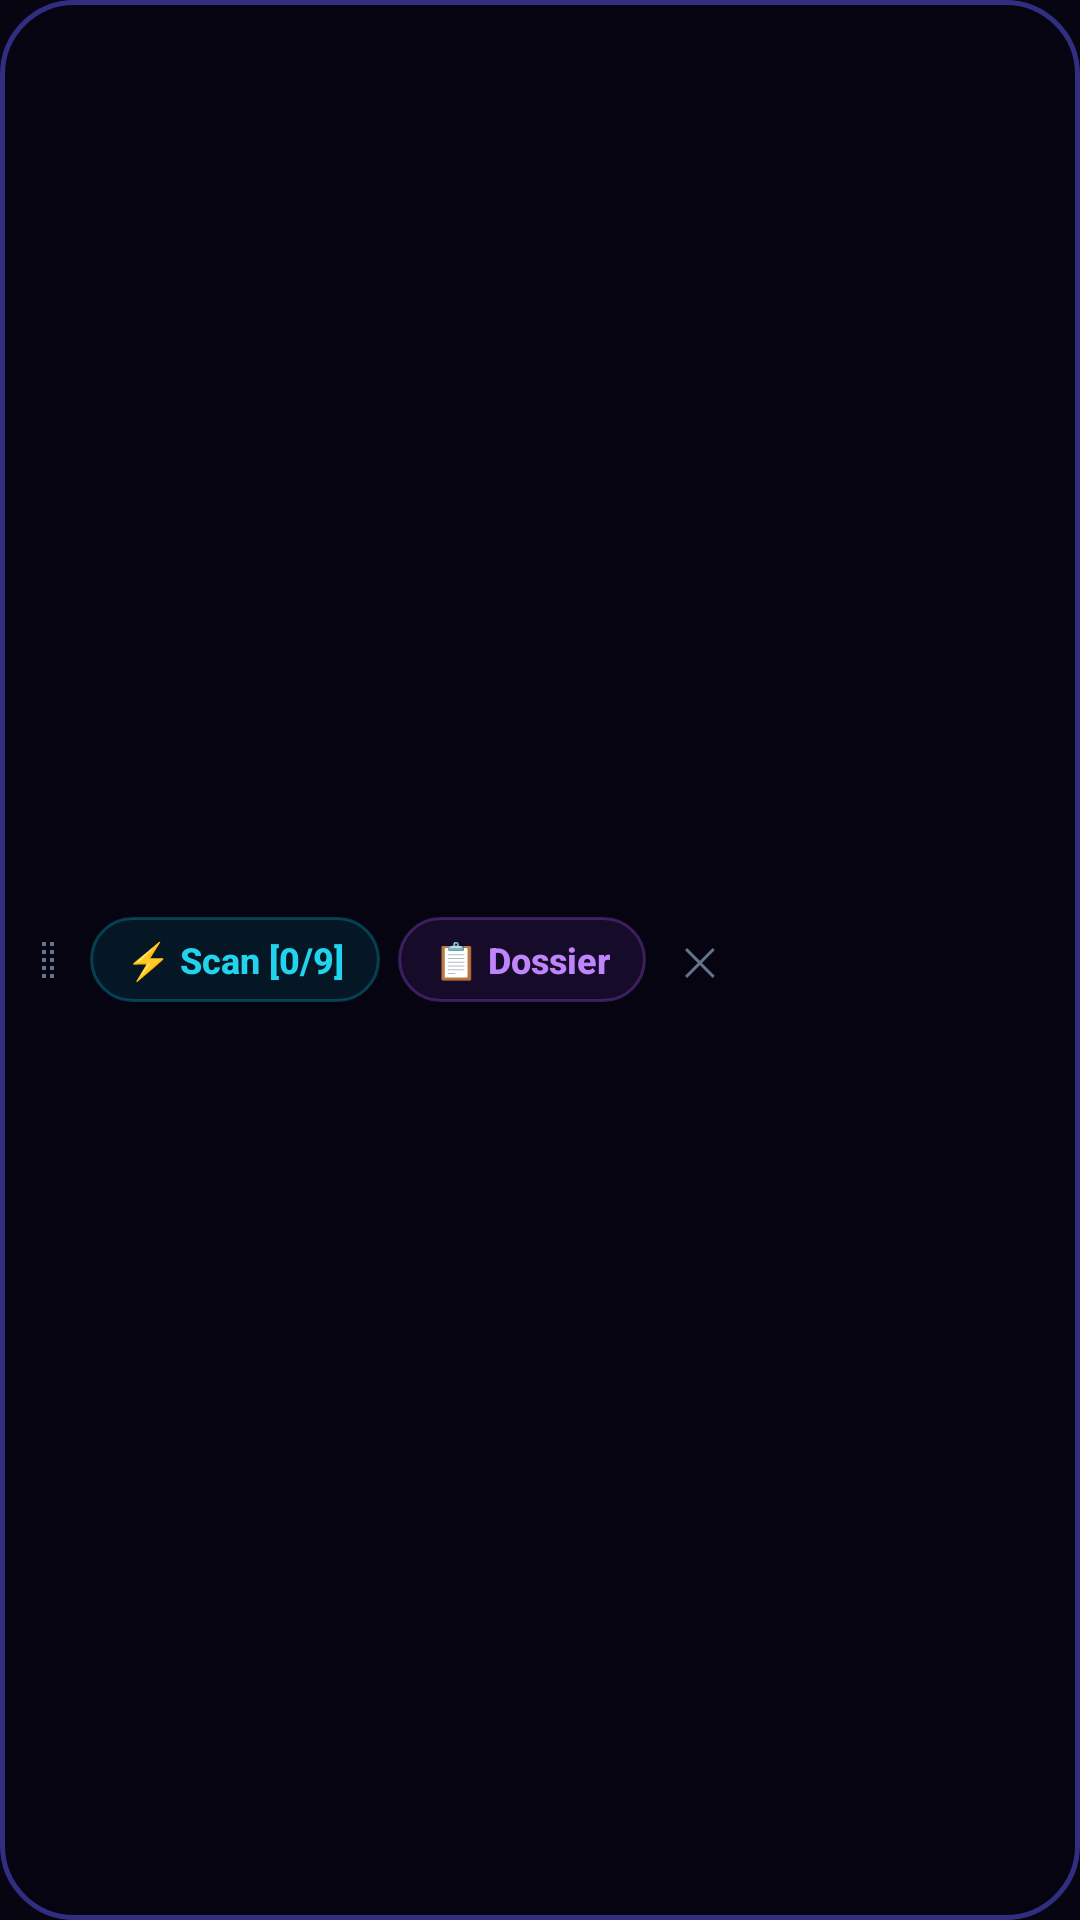

Screen size 1080×1920. Icon name, then its box in pixels as (x1, y1, x2, y2):
Drag Overlay: (42, 942, 54, 978)
